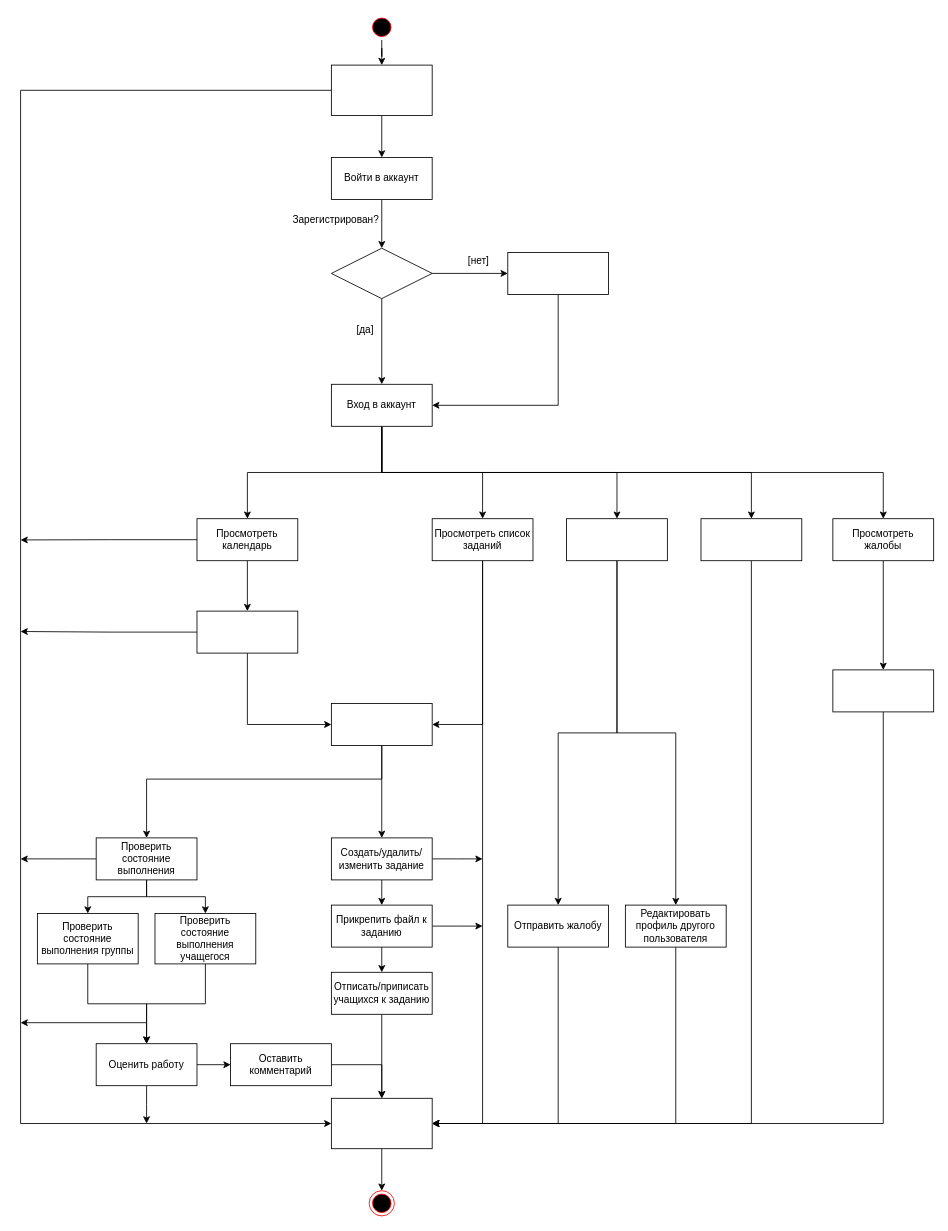
Some shapes in this 948 by 1231 pixel diagram are drawn without their labels. Here are the shapes that lost their labels. From the top down, the centre of each, then its label:
(381,90): Запуск приложения
(558,273): Регистрация
(616,539): Просмотреть профиль другого пользователя
(751,539): Настроить профиль
(247,631): Просмотреть конкретный день
(883,690): Принять решение по жалобе
(381,724): Взаимодействовать с заданием
(381,1123): Выйти из приложения
